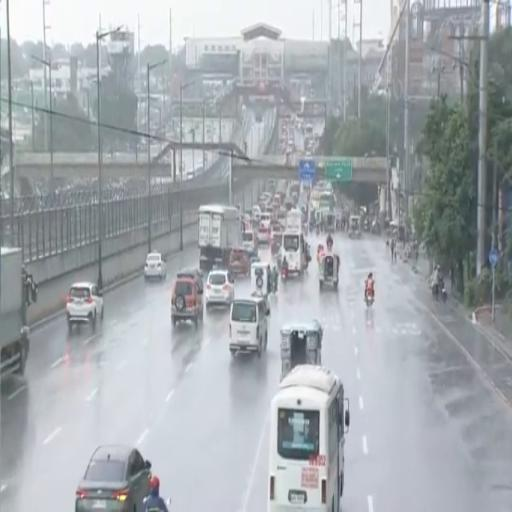bus: (268, 365, 350, 511), (319, 190, 335, 211)
car: (75, 445, 151, 511), (66, 282, 103, 331), (171, 272, 203, 327), (204, 270, 234, 308), (177, 268, 203, 294), (144, 251, 166, 280)
motorcycle: (432, 280, 447, 302), (271, 274, 278, 294), (366, 291, 374, 308), (281, 266, 288, 282), (143, 496, 148, 505), (316, 226, 320, 235)
truck: (0, 247, 37, 377), (198, 204, 242, 271), (285, 208, 302, 232)
